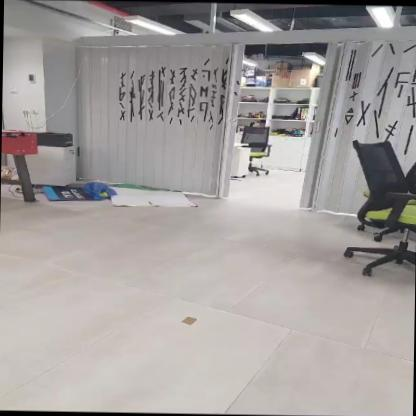open: (214, 41, 336, 202)
